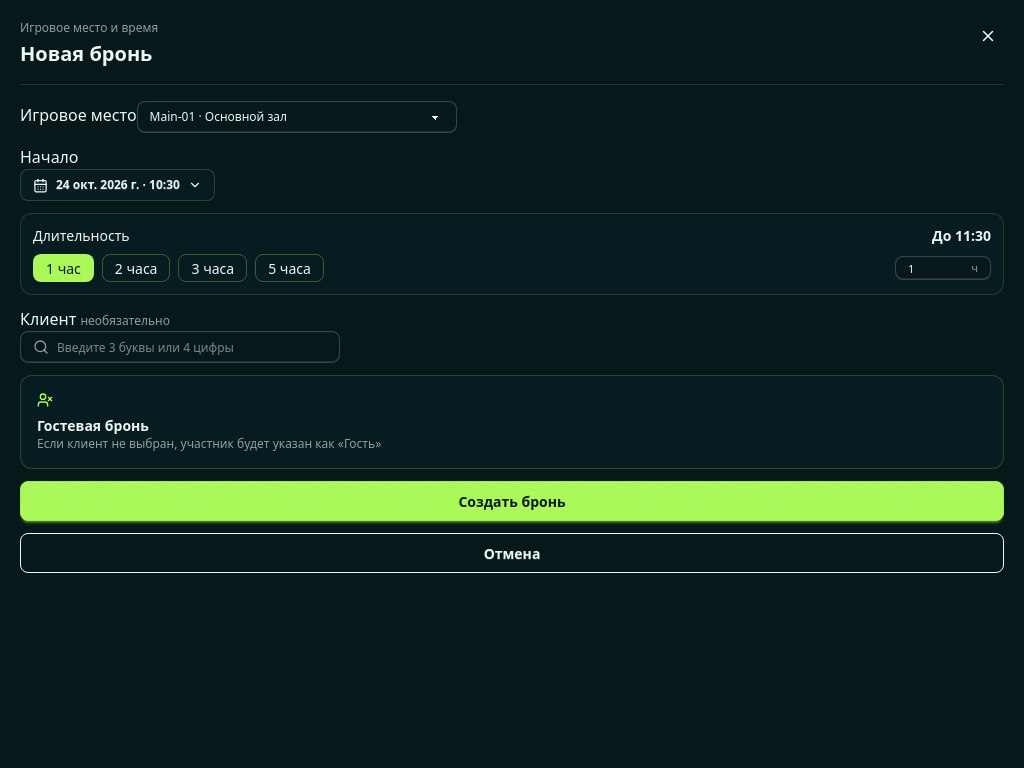
Панель бронирования › не создаёт бронь, если проверка доступности возвращает конфликт
What coordinates should you click on to do the following:
click the button "Создать бронь"
I would click on:
 (512, 501)
Its box is [20, 481, 1004, 521].
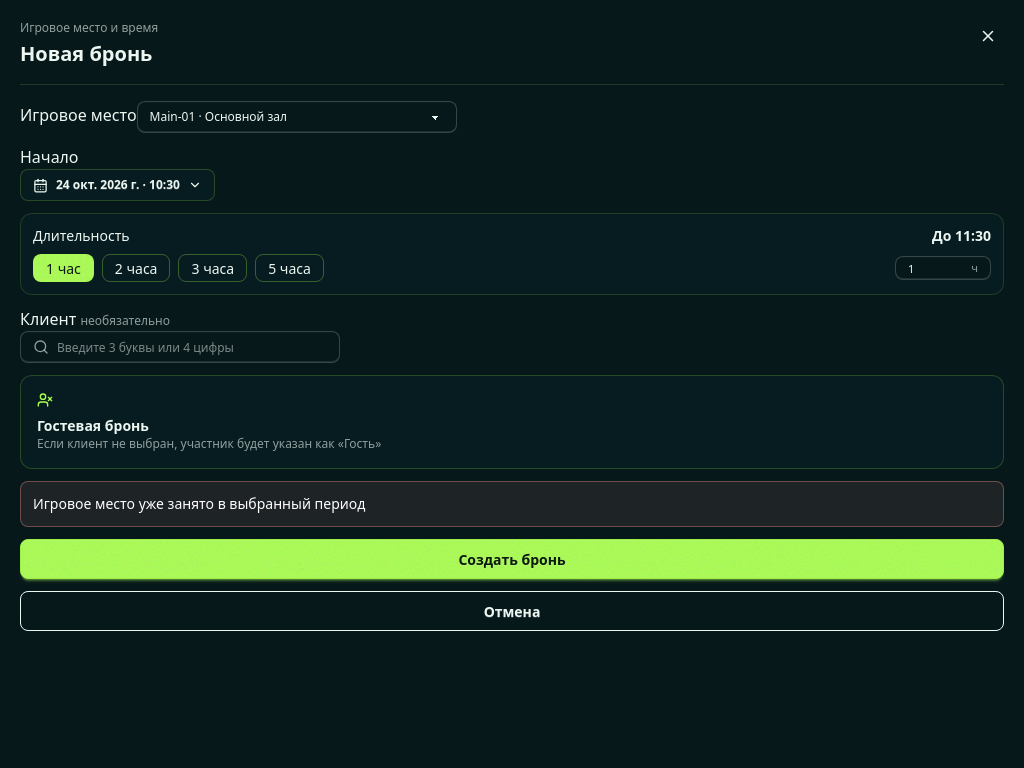
Check: the message shows "Игровое место уже занято", box [33, 494, 365, 513]
